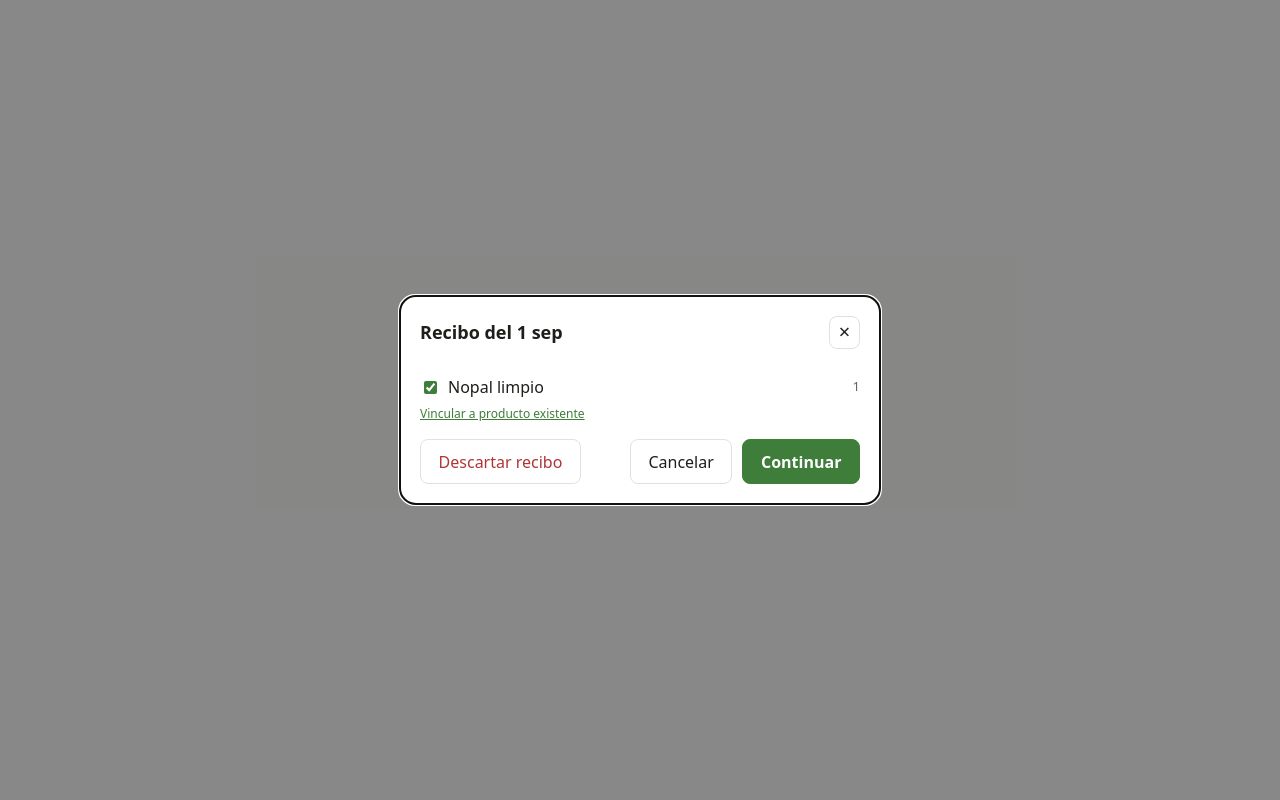
Test case: ReceiptTripDialog manual link to existing product › keeps Confirmar disabled until a product is chosen
Click the button "Vincular a producto existente": (502, 414) [420,405,585,423]
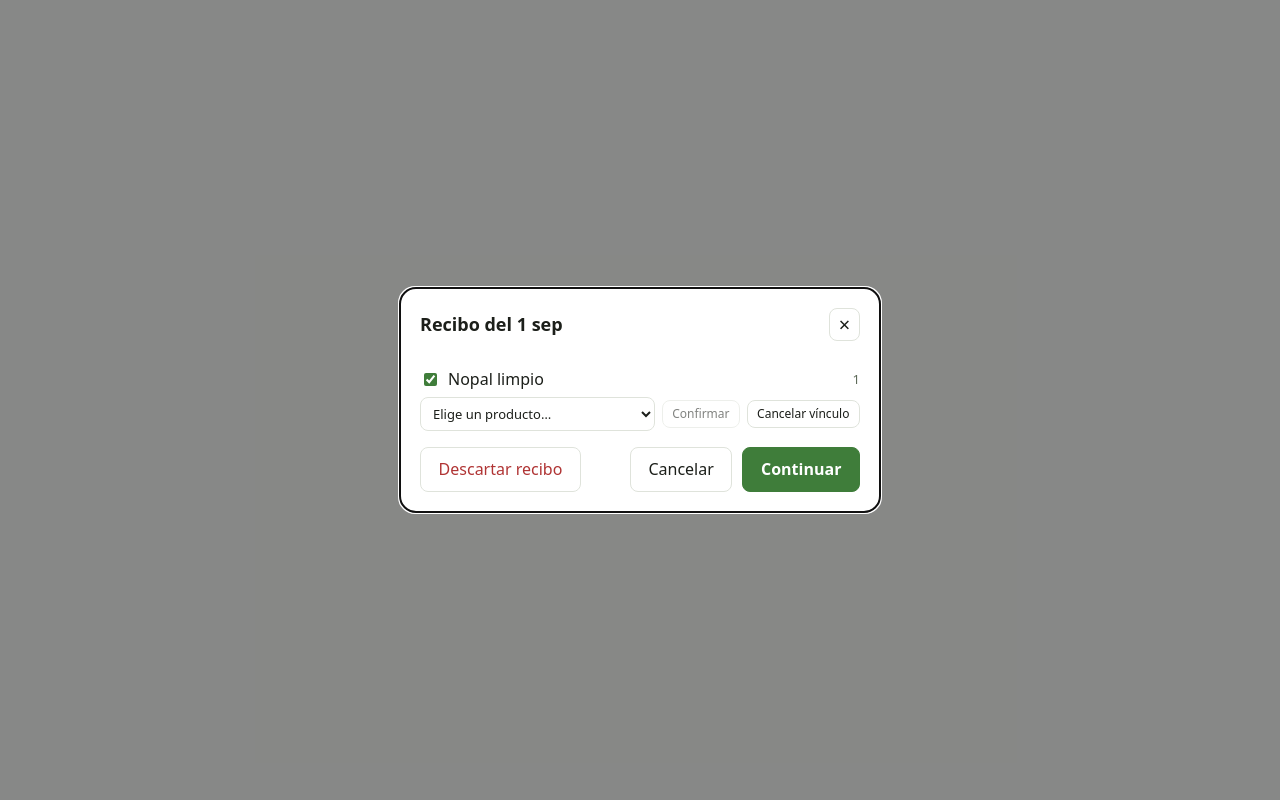
Expected: the button "Confirmar" is disabled, [662,400,740,428]
Select "Leche entera" in the dropdown named "Vincular Nopal limpio a un producto existente": (538, 414) [420,397,655,431]
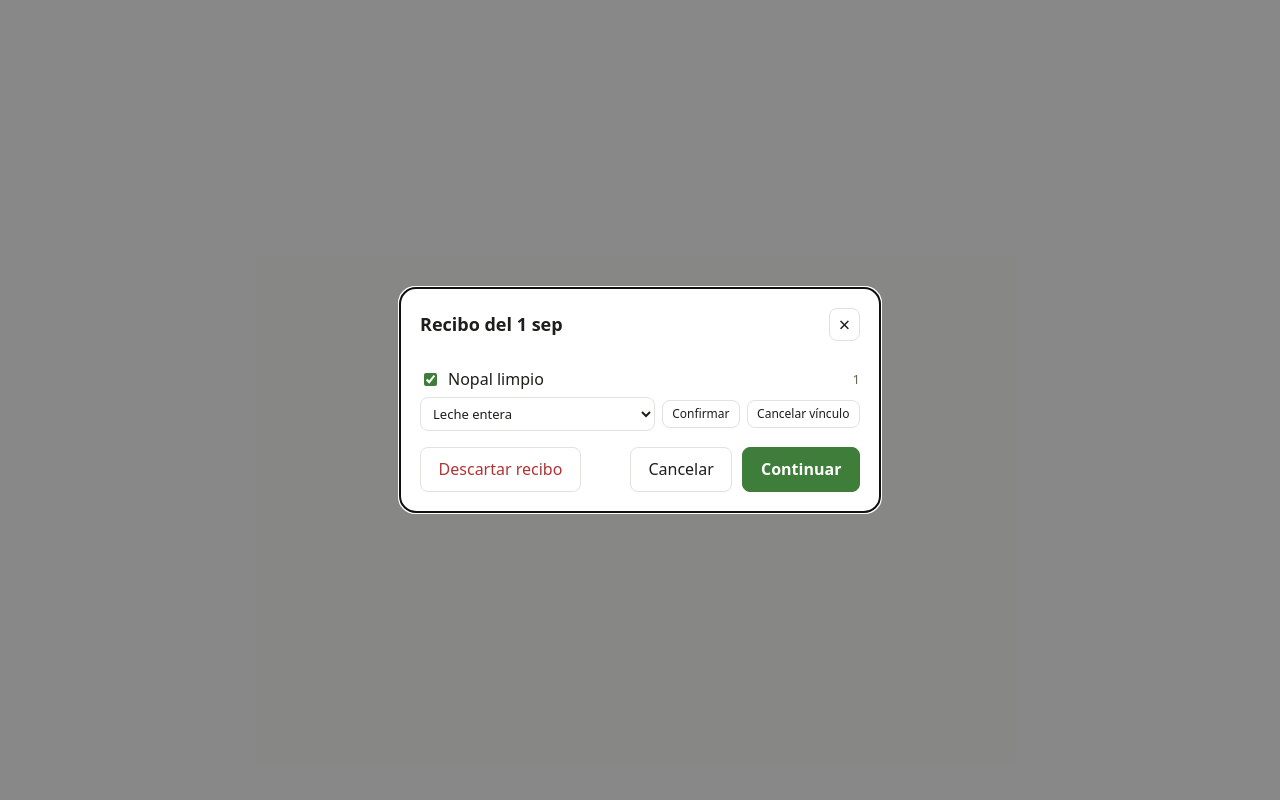
Expected: the button "Confirmar" is enabled, [662,400,740,428]
